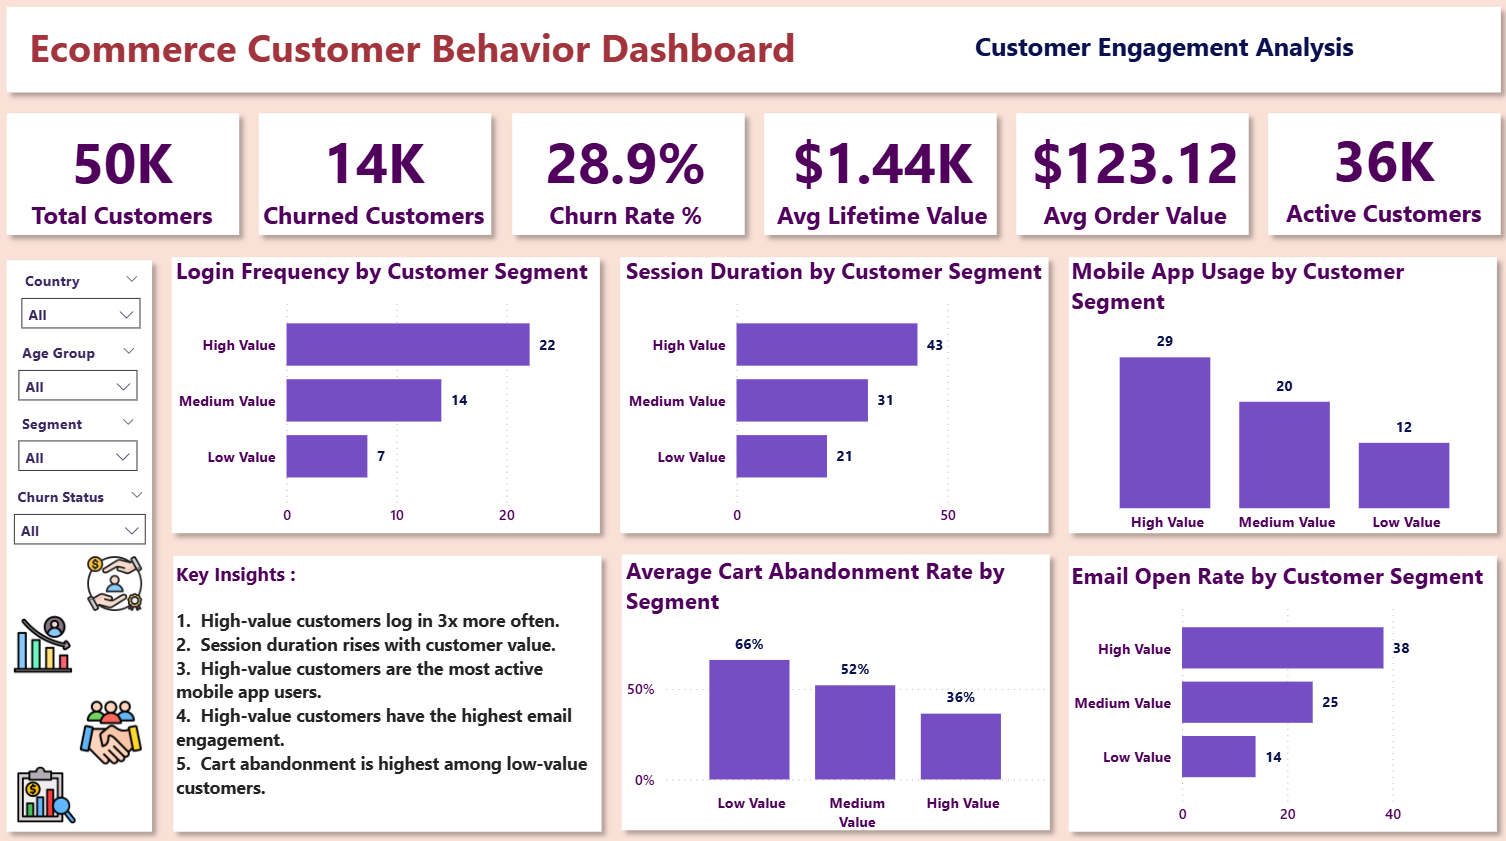

The page's visual inventory and layout, read from the dashboard file:
{"tool":"powerbi","page":{"name":"Customer Engagement Analysis","canvas":[1280,720],"ordinal":2},"visuals":[{"type":"shape","box":[7.6,0,1265.9,89.3],"z":0},{"type":"shape","box":[850.7,89.3,212,119.6],"z":1000},{"type":"textbox","box":[16.7,15.1,678.4,60.6],"z":2000},{"type":"shape","box":[429.1,89.3,212,119.6],"z":3000},{"type":"shape","box":[639.9,89.3,212,119.6],"z":4000},{"type":"shape","box":[1061.5,89.3,212,119.6],"z":5000},{"type":"shape","box":[7.6,212,139.3,495.1],"z":6000},{"type":"shape","box":[145.9,209,375.5,248.3],"z":7000},{"type":"shape","box":[7.6,89.3,212,119.6],"z":8000},{"type":"shape","box":[218.4,89.3,212,119.6],"z":9000},{"type":"card","fields":{"Values":["customer_behavior.Total Customer"]},"box":[16.7,96.9,192.3,106],"z":10000},{"type":"card","fields":{"Values":["customer_behavior.Churned Customers"]},"box":[221.1,96.9,204.4,106],"z":11000},{"type":"card","fields":{"Values":["customer_behavior.Churn Rate %"]},"box":[431.5,96.9,204.4,106],"z":12000},{"type":"card","fields":{"Values":["customer_behavior.Avg Lifetime Value"]},"box":[645.1,96.9,204.4,106],"z":13000},{"type":"card","fields":{"Values":["customer_behavior.Avg Order Value"]},"box":[855.5,96.9,205.9,106],"z":14000},{"type":"card","fields":{"Values":["customer_behavior.Active Customers"]},"box":[1064.2,94.7,205.3,105.8],"z":15000},{"type":"shape","box":[520.4,209,375.5,248.3],"z":16000},{"type":"shape","box":[894.9,209,375.5,248.3],"z":17000},{"type":"textbox","box":[799.5,21.2,368,48.5],"z":18000},{"type":"slicer","fields":{"Values":["customer_behavior.Country"]},"box":[18.2,224.1,119.6,60.6],"z":19000},{"type":"slicer","fields":{"Values":["customer_behavior.Age Group"]},"box":[16.7,284.7,119.6,60.6],"z":20000},{"type":"slicer","fields":{"Values":["customer_behavior.Customer Segment"]},"box":[16.3,343.3,119,61.4],"z":21000},{"type":"slicer","fields":{"Values":["customer_behavior.Churn Status"]},"box":[12.1,404.3,130.2,66.6],"z":22000},{"type":"image","box":[77.2,460.3,57.5,62.1],"z":23000},{"type":"image","box":[71.2,583,63.6,65.1],"z":24000},{"type":"image","box":[15.1,511.8,63.6,60.6],"z":25000},{"type":"image","box":[19.7,637.5,59.1,59.1],"z":26000},{"type":"shape","box":[146.9,458.8,375.5,248.3],"z":27000},{"type":"shape","box":[520.9,457.3,375.5,248.3],"z":28000},{"type":"shape","box":[894.9,458.8,375.5,248.3],"z":29000},{"type":"clusteredBarChart","title":"Login Frequency by Customer Segment","fields":{"Y":["Avg(customer_behavior.Login_Frequency)"],"Category":["customer_behavior.Customer Segment"]},"box":[152.9,216.5,361.9,234.7],"z":30000},{"type":"clusteredBarChart","title":"Session Duration by Customer Segment","fields":{"Category":["customer_behavior.Customer Segment"],"Y":["Avg(customer_behavior.Session_Duration_Avg)"]},"box":[528.5,216.5,361.9,234.7],"z":31000},{"type":"clusteredColumnChart","title":"Mobile App Usage by Customer Segment","fields":{"Category":["customer_behavior.Customer Segment"],"Y":["Avg(customer_behavior.Mobile_App_Usage)"]},"box":[901,216.5,369.5,240.8],"z":32000},{"type":"clusteredBarChart","title":"Email Open Rate by Customer Segment","fields":{"Category":["customer_behavior.Customer Segment"],"Y":["Avg(customer_behavior.Email_Open_Rate)"]},"box":[901,470.9,361.9,230.2],"z":33000},{"type":"clusteredColumnChart","title":"Average Cart Abandonment Rate by Segment","fields":{"Category":["customer_behavior.Customer Segment"],"Y":["customer_behavior.Avg cart abandonment %"]},"box":[528.5,467.9,361.9,237.7],"z":34000},{"type":"textbox","box":[152.9,466.4,369.5,230.2],"z":35000}]}

Visuals, with their boxes in screenshot pixels (x1, y1, x2, y2), scaled from the page's 1280x720 canvas onto the 1506x841 screenshot:
shape: pyautogui.locateOnScreen(9, 0, 1498, 104)
shape: pyautogui.locateOnScreen(1001, 104, 1250, 244)
textbox: pyautogui.locateOnScreen(20, 18, 818, 88)
shape: pyautogui.locateOnScreen(505, 104, 754, 244)
shape: pyautogui.locateOnScreen(753, 104, 1002, 244)
shape: pyautogui.locateOnScreen(1249, 104, 1498, 244)
shape: pyautogui.locateOnScreen(9, 248, 173, 826)
shape: pyautogui.locateOnScreen(172, 244, 613, 534)
shape: pyautogui.locateOnScreen(9, 104, 258, 244)
shape: pyautogui.locateOnScreen(257, 104, 506, 244)
card - customer_behavior.Total Customer: pyautogui.locateOnScreen(20, 113, 246, 237)
card - customer_behavior.Churned Customers: pyautogui.locateOnScreen(260, 113, 501, 237)
card - customer_behavior.Churn Rate %: pyautogui.locateOnScreen(508, 113, 748, 237)
card - customer_behavior.Avg Lifetime Value: pyautogui.locateOnScreen(759, 113, 999, 237)
card - customer_behavior.Avg Order Value: pyautogui.locateOnScreen(1007, 113, 1249, 237)
card - customer_behavior.Active Customers: pyautogui.locateOnScreen(1252, 111, 1494, 234)
shape: pyautogui.locateOnScreen(612, 244, 1054, 534)
shape: pyautogui.locateOnScreen(1053, 244, 1495, 534)
textbox: pyautogui.locateOnScreen(941, 25, 1374, 81)
slicer - customer_behavior.Country: pyautogui.locateOnScreen(21, 262, 162, 333)
slicer - customer_behavior.Age Group: pyautogui.locateOnScreen(20, 333, 160, 403)
slicer - customer_behavior.Customer Segment: pyautogui.locateOnScreen(19, 401, 159, 473)
slicer - customer_behavior.Churn Status: pyautogui.locateOnScreen(14, 472, 167, 550)
image: pyautogui.locateOnScreen(91, 538, 158, 610)
image: pyautogui.locateOnScreen(84, 681, 159, 757)
image: pyautogui.locateOnScreen(18, 598, 93, 669)
image: pyautogui.locateOnScreen(23, 745, 93, 814)
shape: pyautogui.locateOnScreen(173, 536, 615, 826)
shape: pyautogui.locateOnScreen(613, 534, 1055, 824)
shape: pyautogui.locateOnScreen(1053, 536, 1495, 826)
"Login Frequency by Customer Segment" clusteredBarChart: pyautogui.locateOnScreen(180, 253, 606, 527)
"Session Duration by Customer Segment" clusteredBarChart: pyautogui.locateOnScreen(622, 253, 1048, 527)
"Mobile App Usage by Customer Segment" clusteredColumnChart: pyautogui.locateOnScreen(1060, 253, 1495, 534)
"Email Open Rate by Customer Segment" clusteredBarChart: pyautogui.locateOnScreen(1060, 550, 1486, 819)
"Average Cart Abandonment Rate by Segment" clusteredColumnChart: pyautogui.locateOnScreen(622, 547, 1048, 824)
textbox: pyautogui.locateOnScreen(180, 545, 615, 814)
